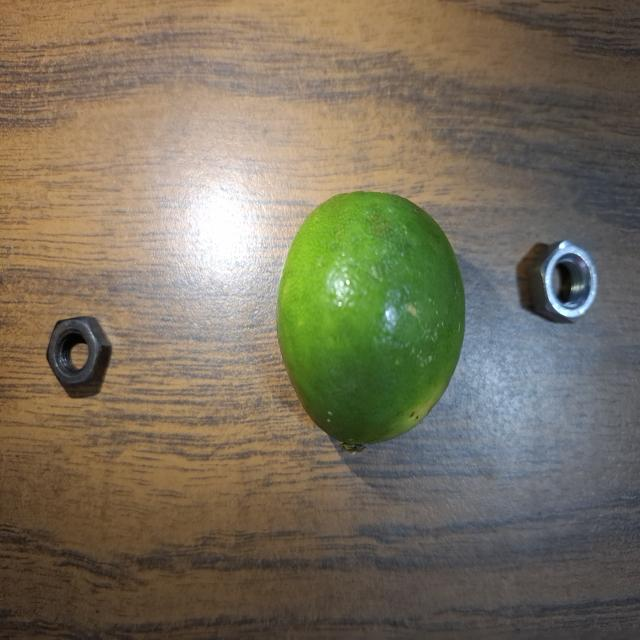limon: (275, 190, 472, 462)
milimetrico: (41, 316, 120, 396)
tuerca: (526, 236, 606, 335)
